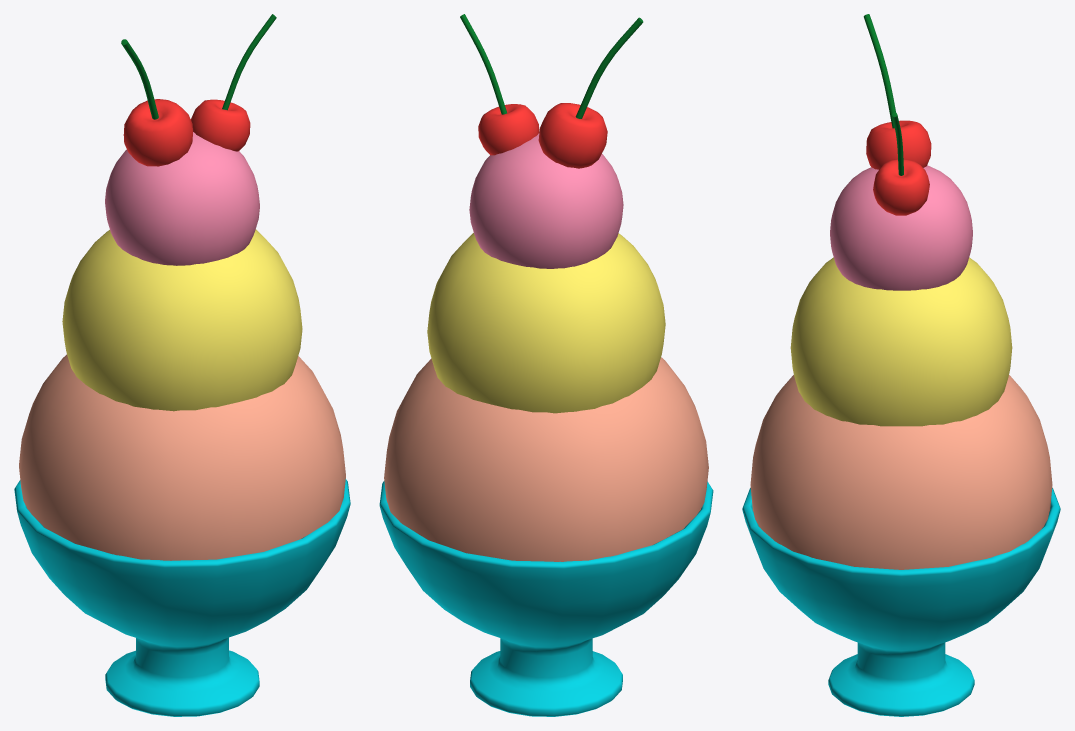
Rendered from Store_4_Ice_Cream_2.glb.
3 views of the same model, side by side, from view 1: azimuth 30°, elevation 25°; view 2: azimuth 150°, elevation 25°; view 3: azimuth 270°, elevation 25° (orthographic). The views are drawn at different scales.
Visible parts, largest first — view 1: Store_4_Ice_Cream_2; view 2: Store_4_Ice_Cream_2; view 3: Store_4_Ice_Cream_2.
Part boxes in pixels (bbox=[...]): Store_4_Ice_Cream_2: bbox=[14, 14, 350, 716]; Store_4_Ice_Cream_2: bbox=[379, 14, 713, 716]; Store_4_Ice_Cream_2: bbox=[742, 14, 1060, 716].
Size of the model in its own units: 0.2763 by 0.6109 by 0.2763.
Materials: 1 (1 with a texture image).
